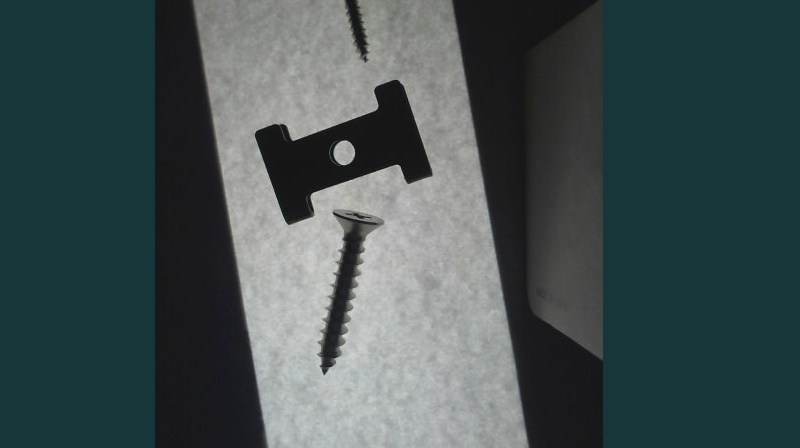O001: (301, 0, 375, 63)
O002: (254, 78, 431, 228)
S001: (317, 202, 384, 373)
